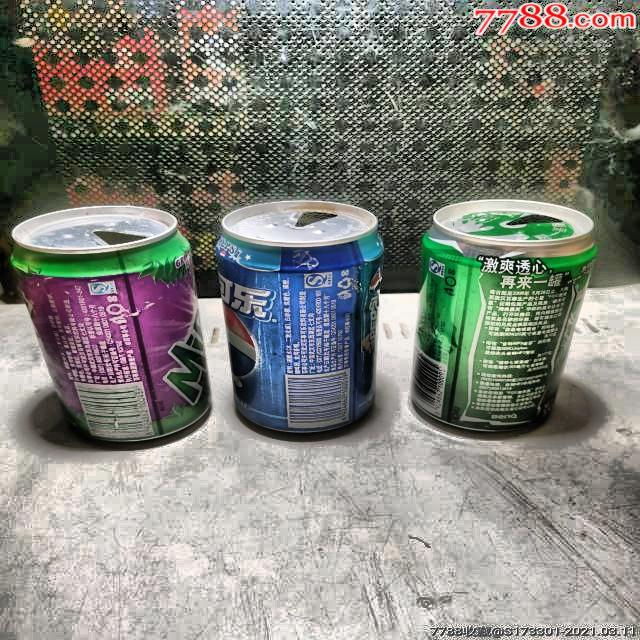can: (5, 197, 217, 453), (408, 192, 602, 442), (213, 194, 385, 441)
